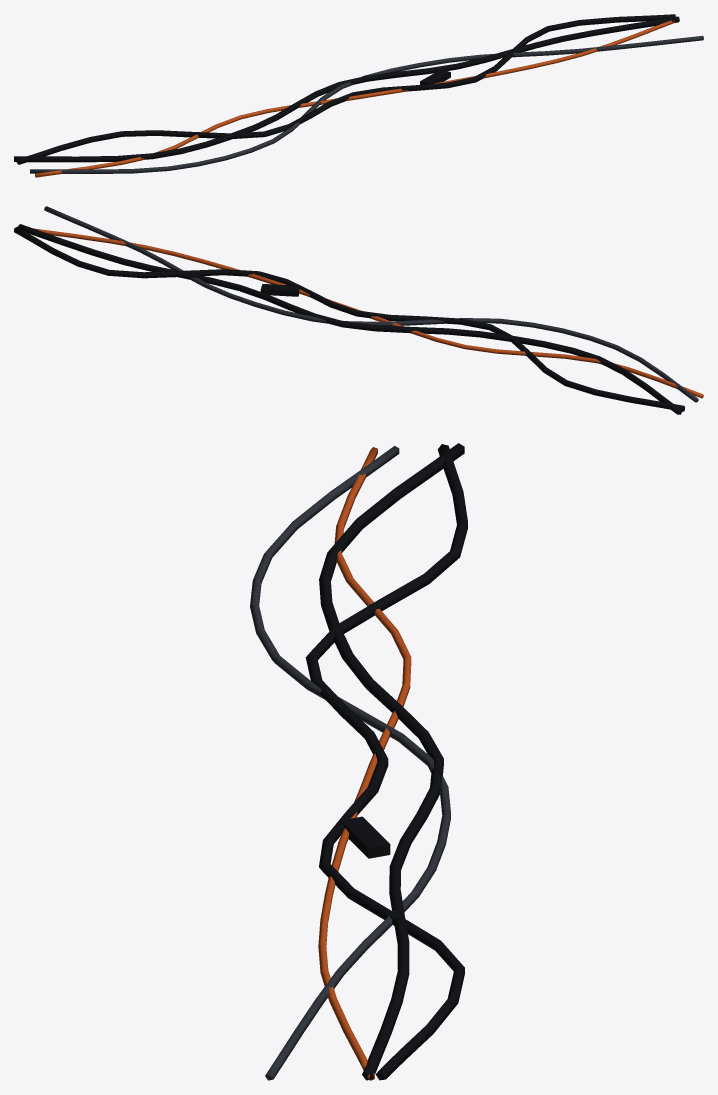
Rendered from Deco_CableRun.glb.
3 renders of one model, top to bottom at view 1: azimuth 30°, elevation 25°; view 2: azimuth 150°, elevation 25°; view 3: azimuth 270°, elevation 25°, orthographic. The views are drawn at different scales.
Visible parts, largest first — view 1: Deco_CableRun; view 2: Deco_CableRun; view 3: Deco_CableRun.
Part boxes in pixels (x1,y1,x2,y2): Deco_CableRun: (14,14,703,177); Deco_CableRun: (14,206,703,414); Deco_CableRun: (250,443,467,1080).
Size of the model in its own units: 2.51 by 0.0209 by 0.3679.
